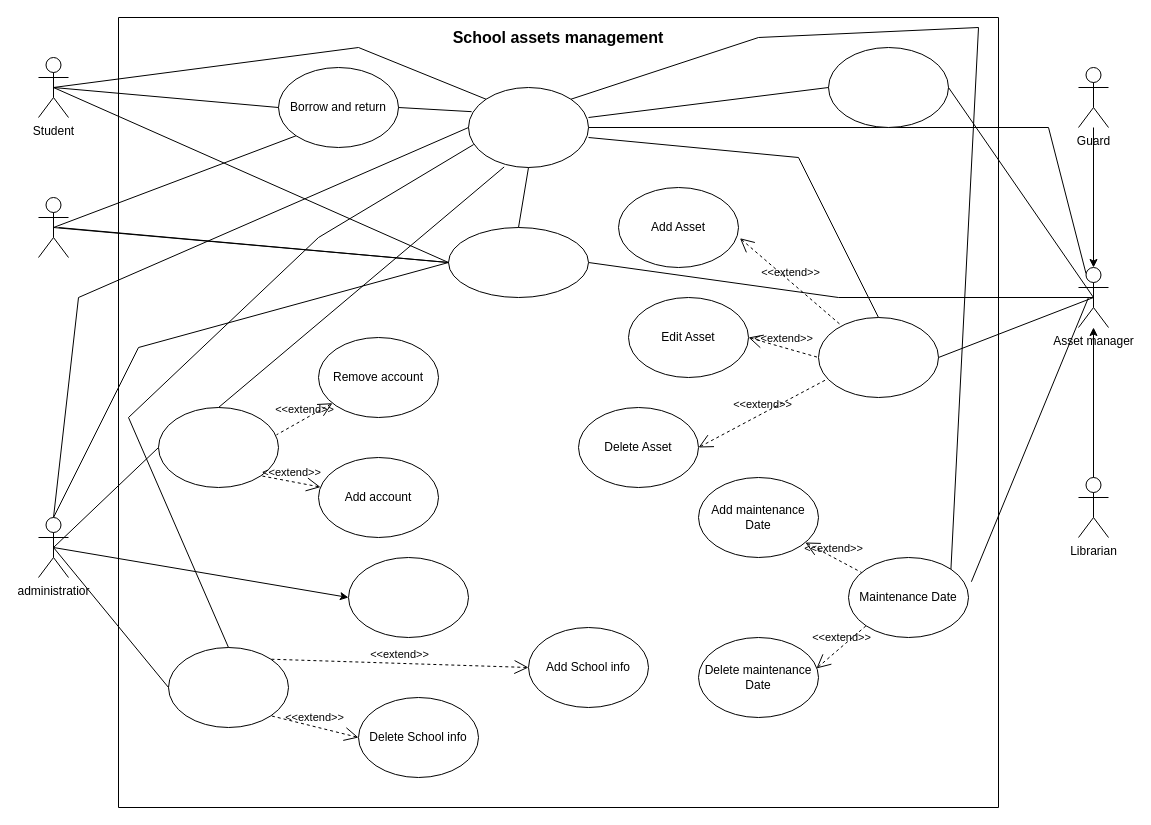
This 1151x825 diagram has some shape labels left out. The box of each missing label's shape, as (x1, y1, x2, y2) in pixels:
Login: (468, 86, 588, 168)
Manage Account: (158, 406, 278, 488)
Manage Asset: (818, 316, 938, 398)
Manage Damage and Lost Property: (828, 46, 948, 128)
Manage maintenance request: (348, 556, 468, 638)
Manage School Info: (168, 646, 288, 728)
Report lost: (448, 226, 588, 298)
Teacher: (38, 196, 68, 258)
